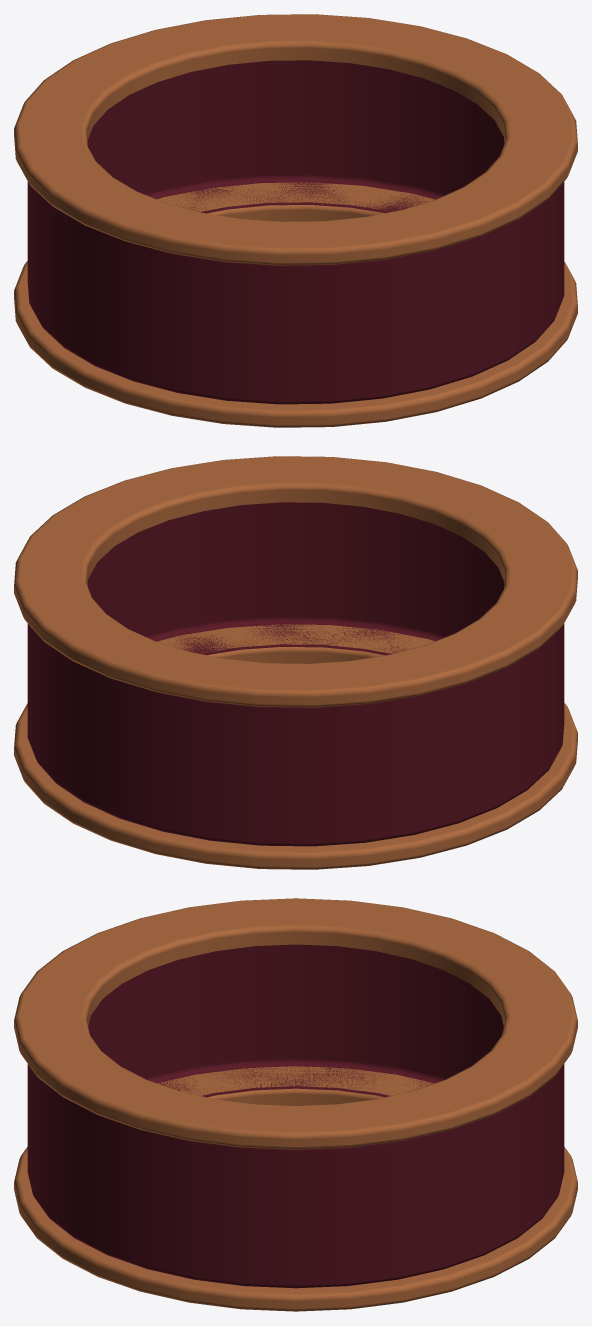
File: Drill_Band.glb
3 renders of one model, top to bottom at view 1: azimuth 30°, elevation 25°; view 2: azimuth 150°, elevation 25°; view 3: azimuth 270°, elevation 25°, orthographic.
Visible parts, largest first — view 1: H_Bands.001, H_BandEdges.001; view 2: H_Bands.001, H_BandEdges.001; view 3: H_Bands.001, H_BandEdges.001.
Part boxes in pixels (x1=…): H_Bands.001: x1=27, y1=60, x2=564, y2=404; H_BandEdges.001: x1=14, y1=14, x2=577, y2=427; H_Bands.001: x1=27, y1=502, x2=564, y2=846; H_BandEdges.001: x1=14, y1=456, x2=577, y2=869; H_Bands.001: x1=27, y1=944, x2=564, y2=1288; H_BandEdges.001: x1=14, y1=898, x2=577, y2=1311.
Size of the model in its own units: 2.91 by 1.02 by 2.91.
